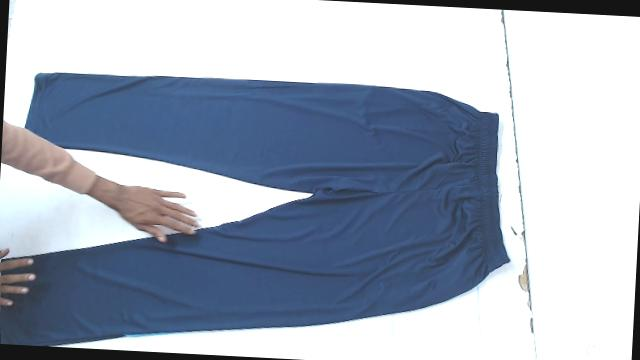new-garment: (0, 73, 508, 345)
